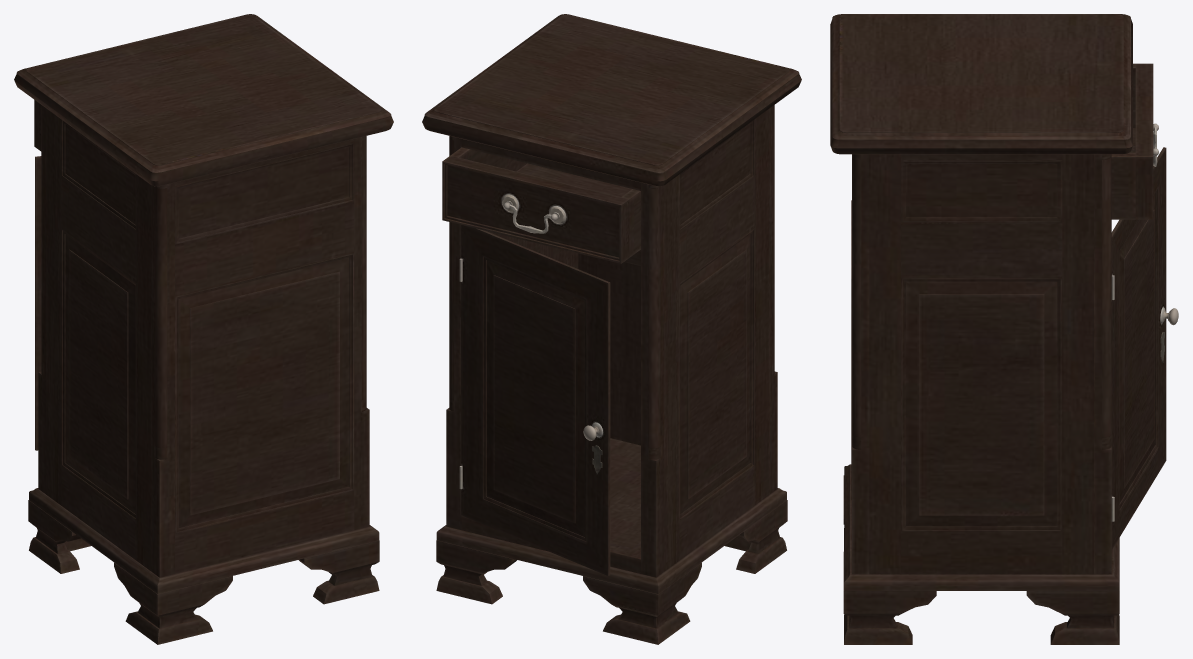
File: cabinet-cupboard-small.glb
3 renders of one model, left to right at view 1: azimuth 30°, elevation 25°; view 2: azimuth 150°, elevation 25°; view 3: azimuth 270°, elevation 25°, orthographic. The views are drawn at different scales.
Visible parts, largest first — view 1: cabinet-cupboard-small; view 2: cabinet-cupboard-small; view 3: cabinet-cupboard-small.
Part boxes in pixels (x1,y1,x2,y2): cabinet-cupboard-small: (14,14,393,644); cabinet-cupboard-small: (422,14,801,644); cabinet-cupboard-small: (830,14,1178,644).
Size of the model in its own units: 0.4344 by 0.8204 by 0.504.
Materials: 1 (1 with a texture image).
